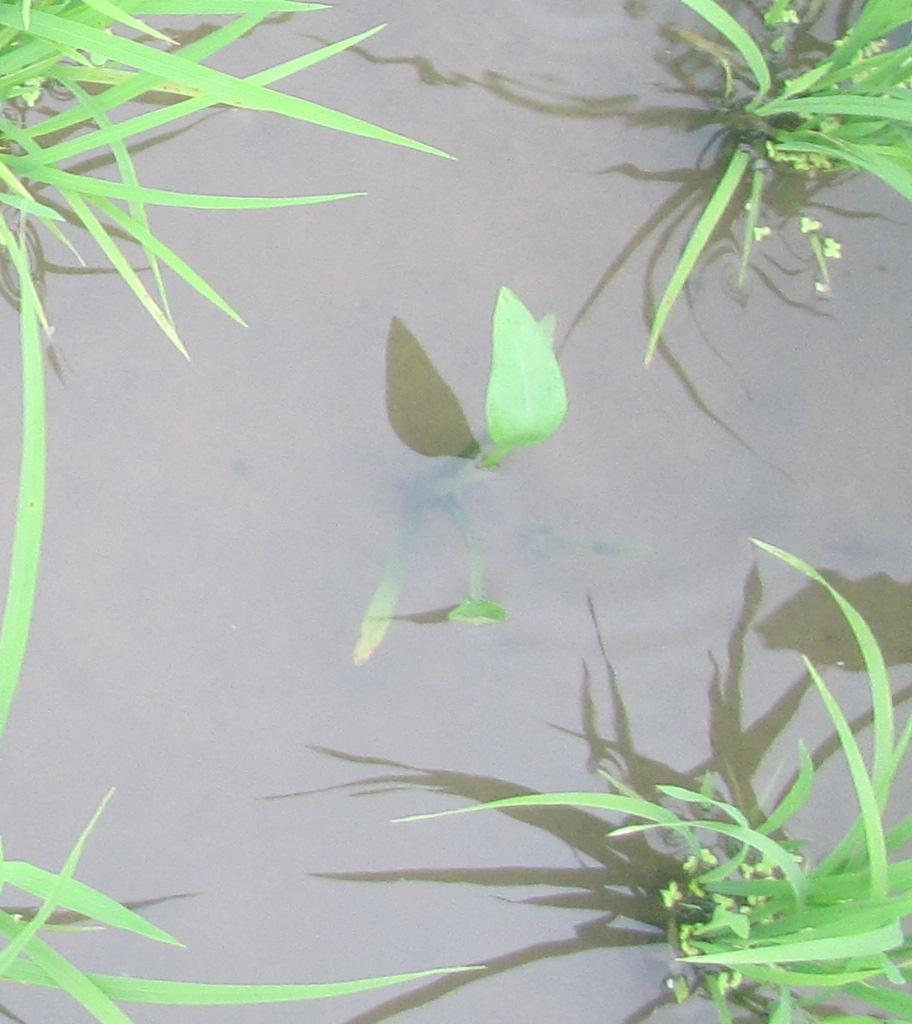Weed: (472, 275, 586, 452)
